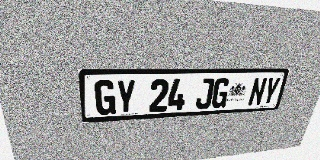2: (149, 79, 169, 112)
4: (167, 79, 187, 111)
G: (94, 80, 116, 115), (210, 78, 231, 108)
J: (195, 78, 215, 109)
N: (247, 77, 268, 106)
Y: (116, 79, 136, 114), (261, 77, 281, 105)
